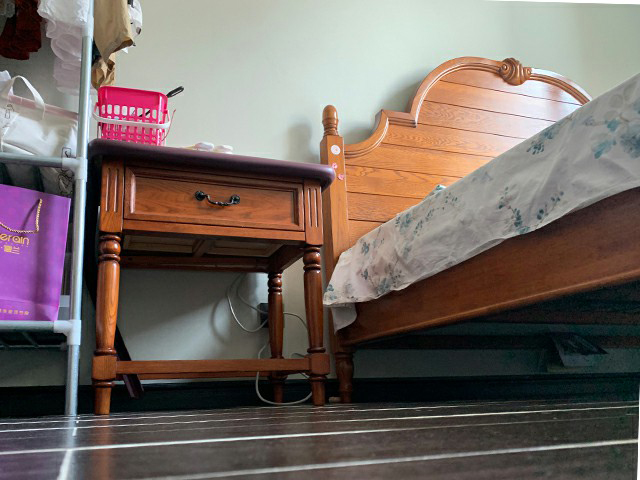bed: (318, 56, 640, 404)
table: (84, 138, 333, 415)
